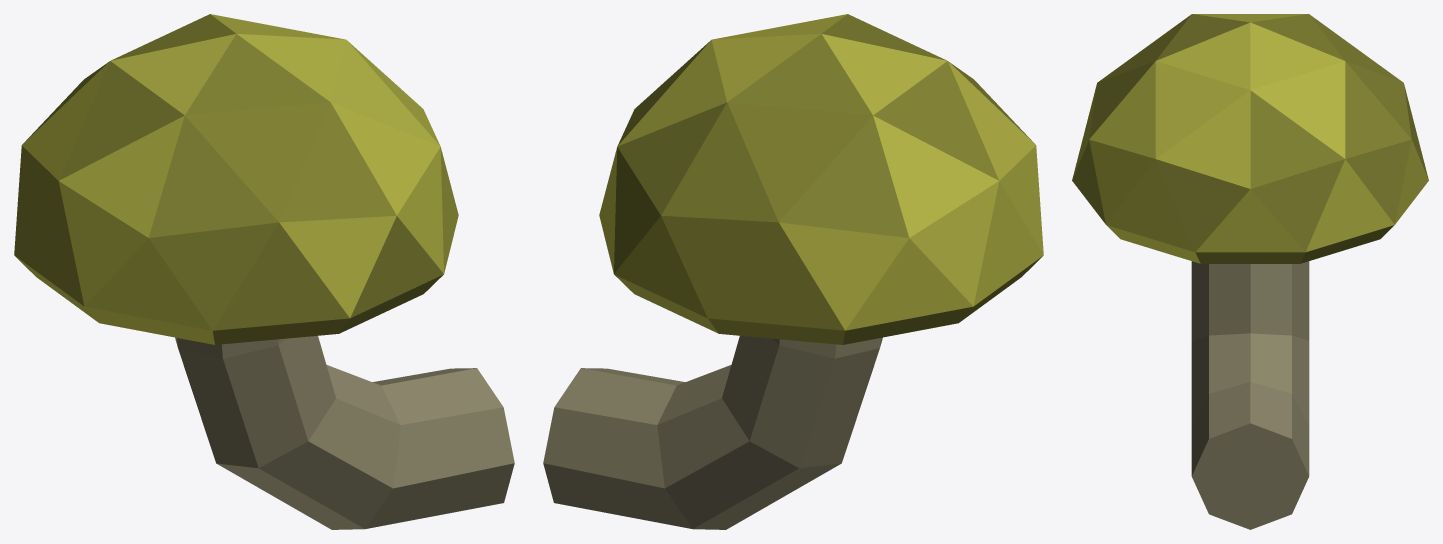
File: Mushroom_5_Yellow.fbx
3 views of the same model, side by side, from view 1: azimuth 30°, elevation 25°; view 2: azimuth 150°, elevation 25°; view 3: azimuth 270°, elevation 25° (orthographic). The views are drawn at different scales.
Visible parts, largest first — view 1: Mushroom_5_Yellow; view 2: Mushroom_5_Yellow; view 3: Mushroom_5_Yellow.
Boxes of the visible parts, x1,y1,x2,y2 form: Mushroom_5_Yellow: (14, 14, 514, 529); Mushroom_5_Yellow: (543, 14, 1043, 529); Mushroom_5_Yellow: (1072, 14, 1428, 529).
Size of the model in its own units: 33.07 by 39 by 30.39.
